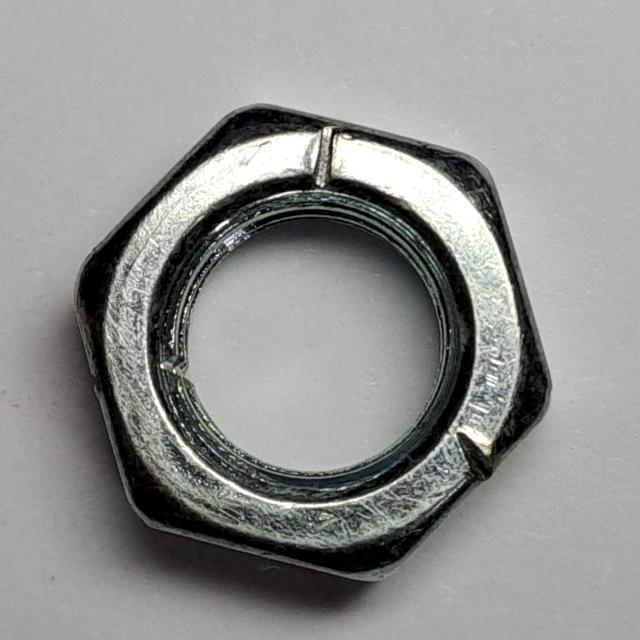Scratches: (57, 90, 569, 597)
